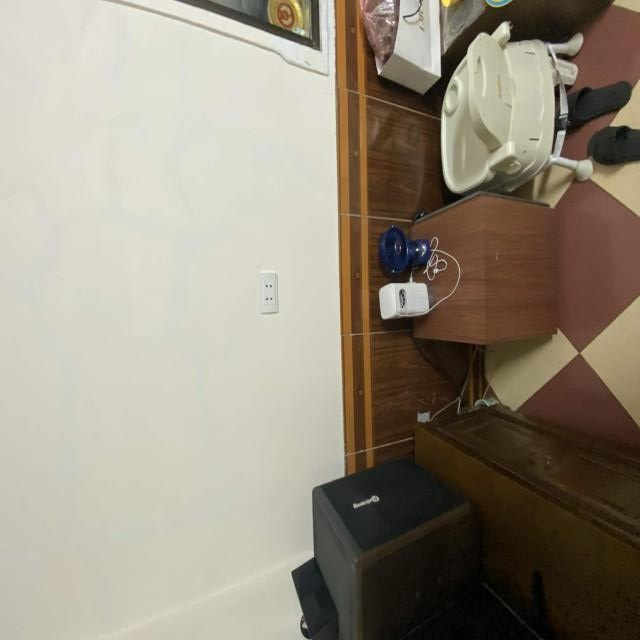outlet: (259, 272, 278, 314)
